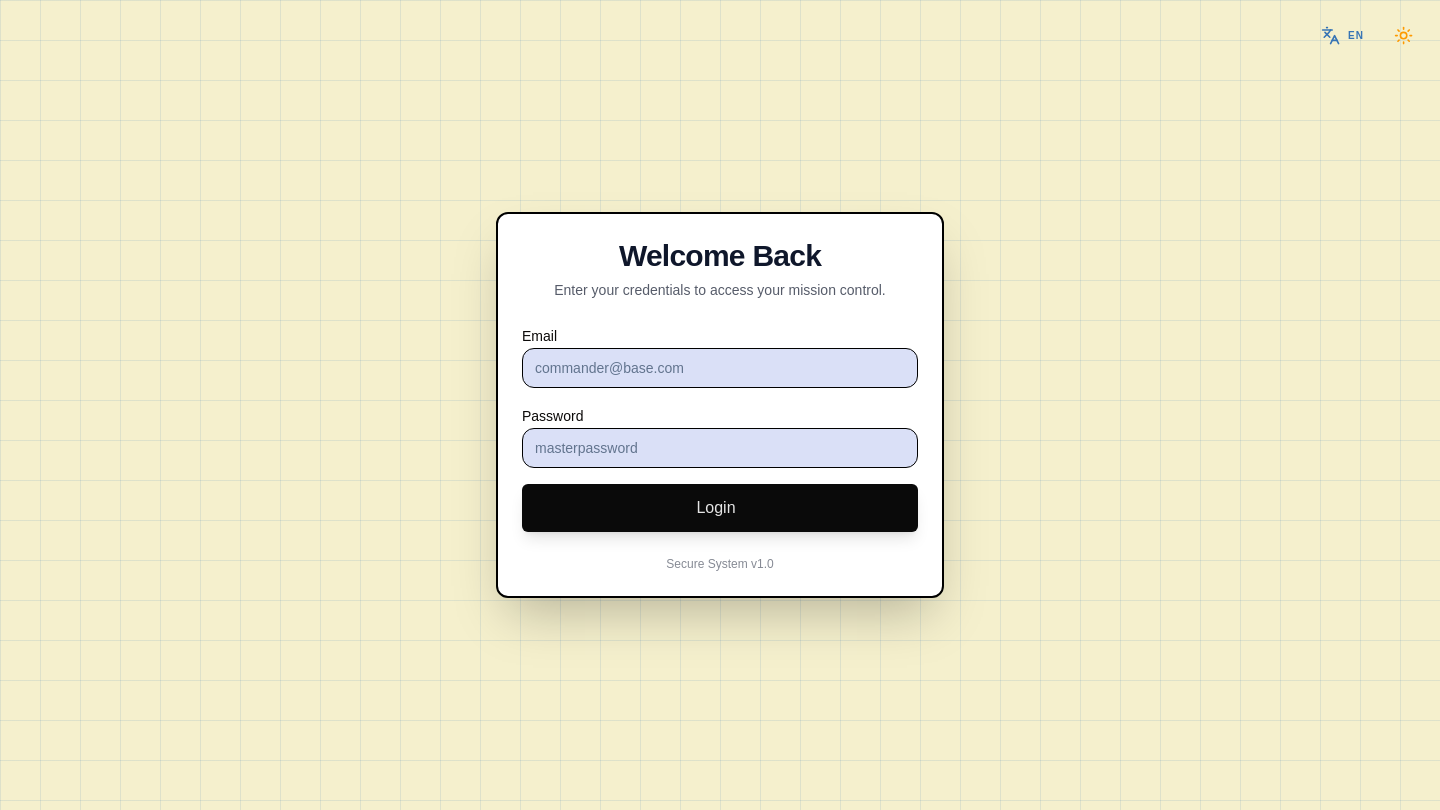
it: LoginPage › shows validation errors for invalid input
Expected: the field labelled "Email" is shown, top-left (522, 348), bottom-right (918, 388)
Click the button "Login". click: {"x": 720, "y": 508}
box: top-left (522, 484), bottom-right (918, 532)
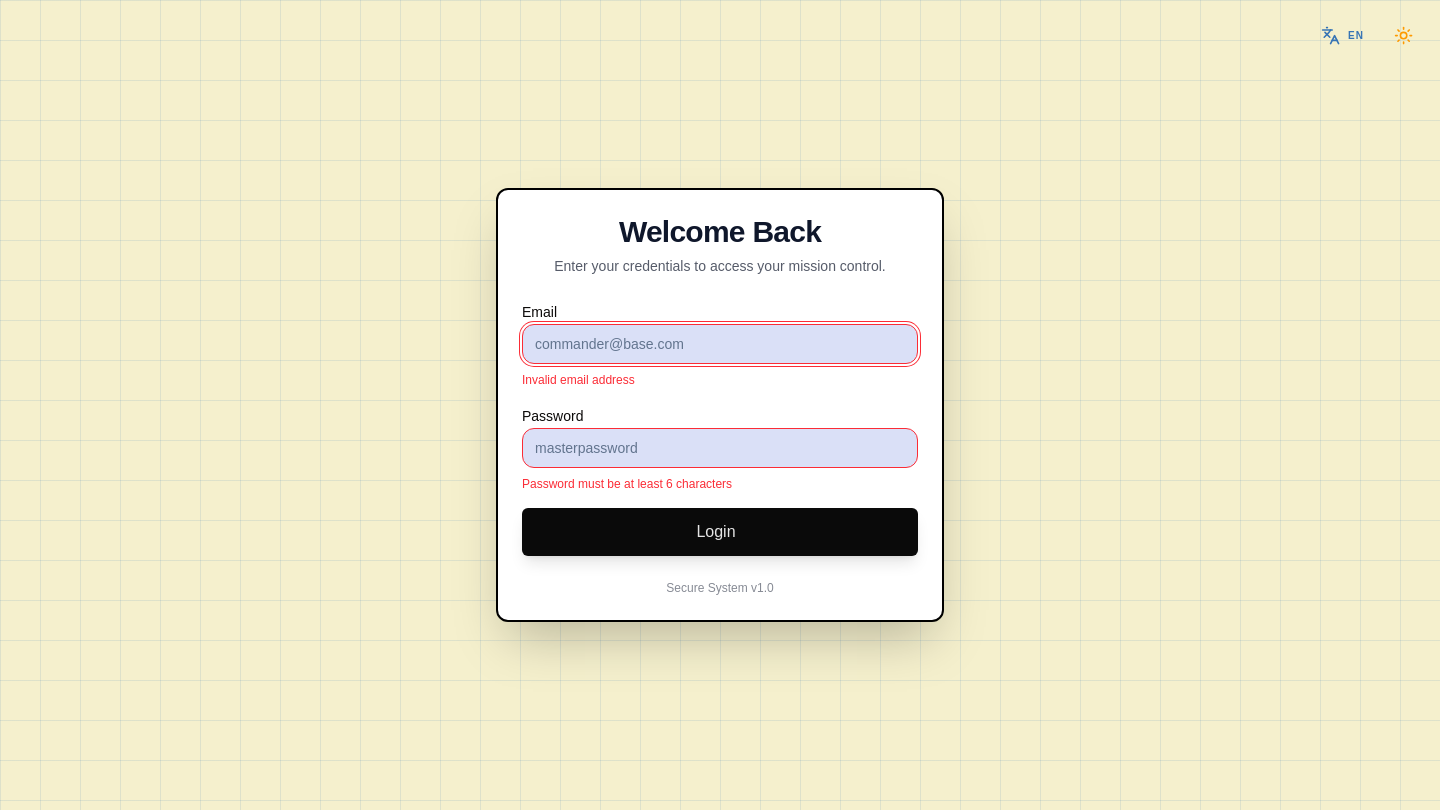
Now the text "Password must be at least 6 characters" is shown, box top-left (522, 477), bottom-right (732, 491)
